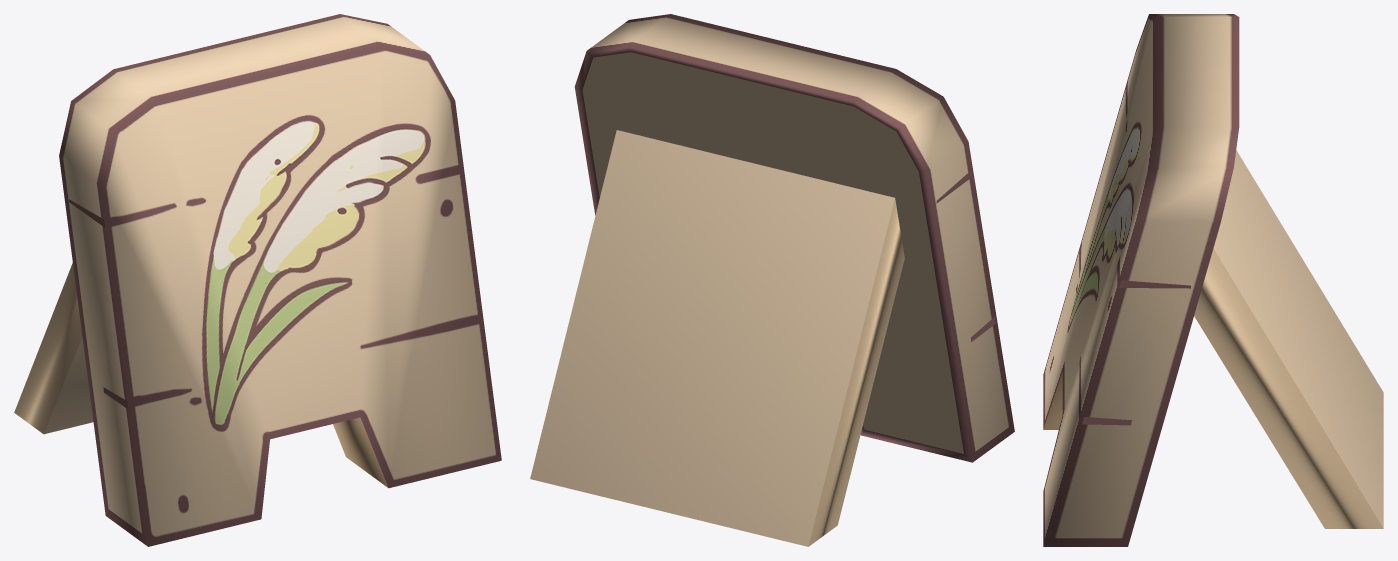
File: Mesh_Home_BH_Farm_Brand_01_SM.fbx
The picture shows the model from 3 angles, left to right: view 1: azimuth 30°, elevation 25°; view 2: azimuth 150°, elevation 25°; view 3: azimuth 270°, elevation 25°; orthographic projection.
Visible parts, largest first — view 1: Mesh_Home_BH_Farm_Brand_01; view 2: Mesh_Home_BH_Farm_Brand_01; view 3: Mesh_Home_BH_Farm_Brand_01.
Boxes of the visible parts, x1,y1,x2,y2 form: Mesh_Home_BH_Farm_Brand_01: (14,14,501,546); Mesh_Home_BH_Farm_Brand_01: (530,14,1014,546); Mesh_Home_BH_Farm_Brand_01: (1043,14,1383,546).
Bounding box in the file's own units: 37.27 × 39.25 × 31.16.
